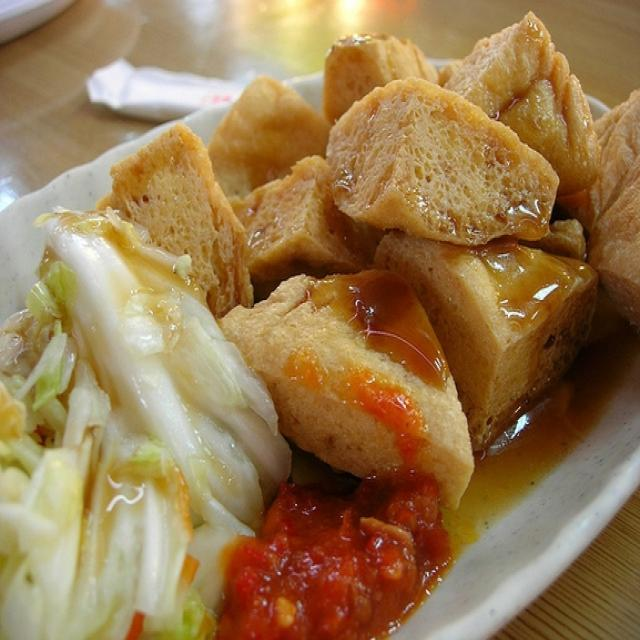豆腐料理: (10, 21, 608, 624)
